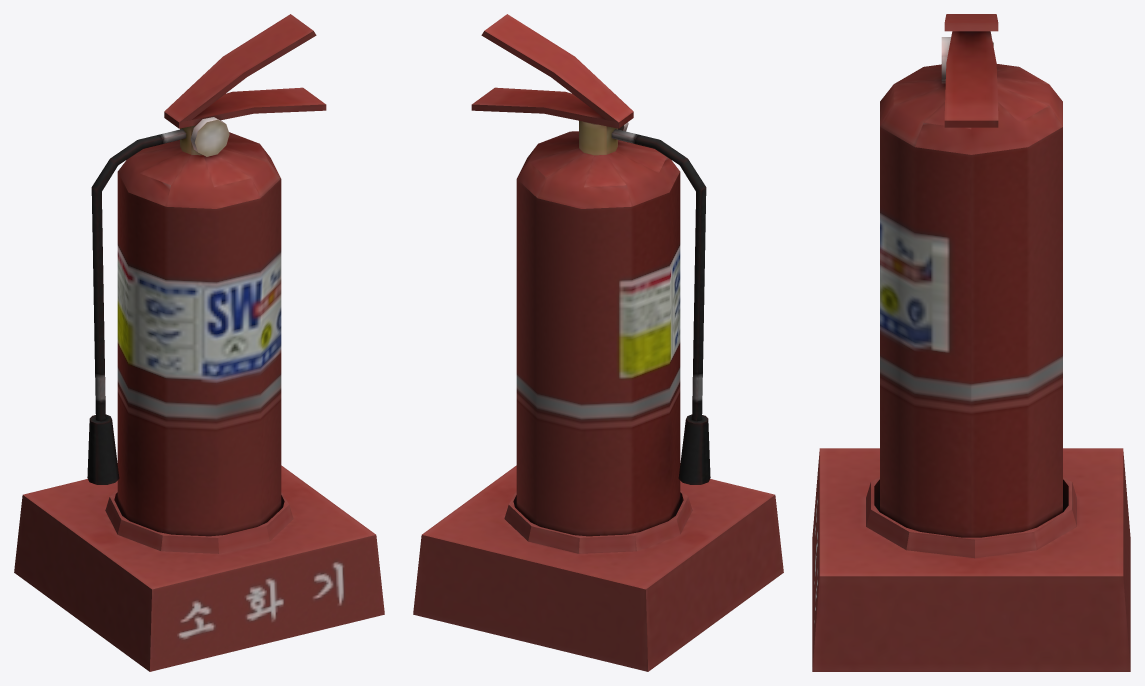
Rendered from extinguisher.gltf.
3 renders of one model, left to right at view 1: azimuth 30°, elevation 25°; view 2: azimuth 150°, elevation 25°; view 3: azimuth 270°, elevation 25°, orthographic. The views are drawn at different scales.
Visible parts, largest first — view 1: extinguisher; view 2: extinguisher; view 3: extinguisher.
Part boxes in pixels (x1,y1,x2,y2): extinguisher: (14,14,384,671); extinguisher: (413,14,783,671); extinguisher: (812,14,1130,671).
Size of the model in its own units: 1.89 by 4.2 by 1.89.
1 material, 1 textured.
